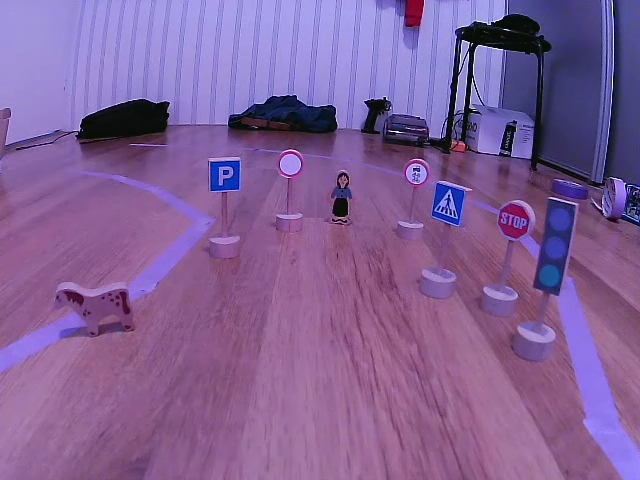fietspad: (276, 149, 303, 179), (405, 158, 428, 187)
groenlicht: (535, 200, 574, 290)
mens: (331, 169, 355, 226)
paard: (51, 280, 139, 335)
parkeerbord: (206, 156, 243, 194)
stopbord: (498, 201, 532, 241)
zebrapad: (434, 180, 462, 225)
